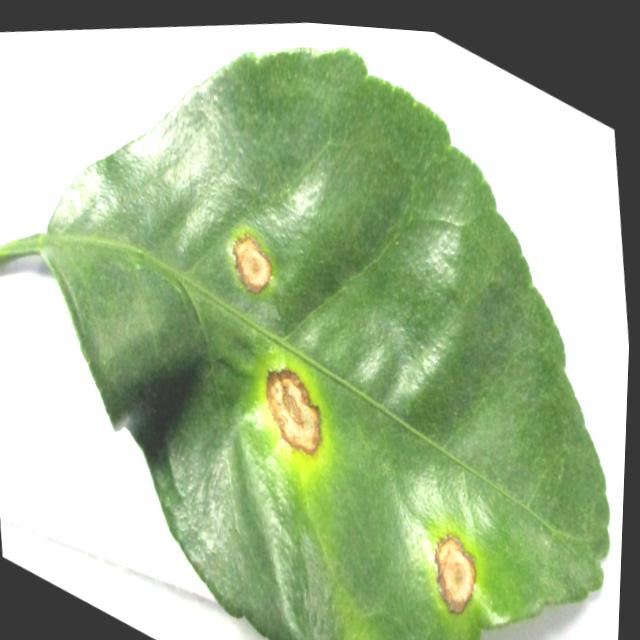antracnose: (0, 50, 609, 640), (266, 369, 321, 455), (435, 534, 475, 614), (232, 234, 272, 293)
